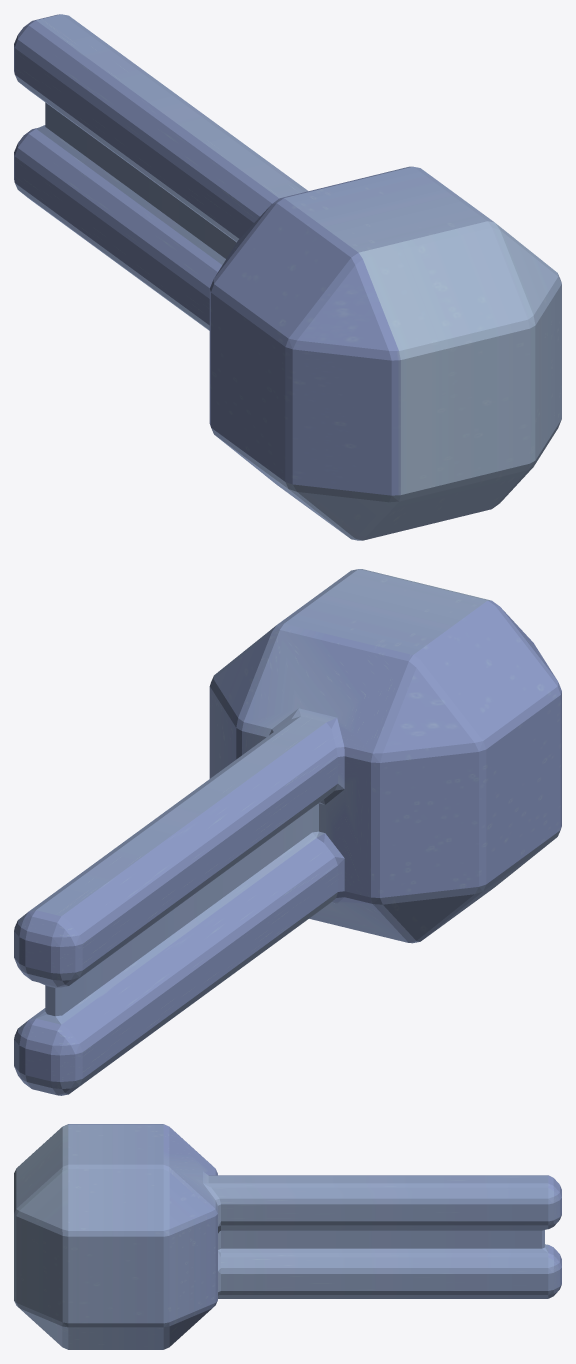
Rendered from chargeGun.obj.
The picture shows the model from 3 angles, top to bottom: view 1: azimuth 30°, elevation 25°; view 2: azimuth 150°, elevation 25°; view 3: azimuth 270°, elevation 25°; orthographic projection. The views are drawn at different scales.
Visible parts, largest first — view 1: 立方体.001; view 2: 立方体.001; view 3: 立方体.001.
Part boxes in pixels (x1,y1,x2,y2): 立方体.001: (14,14,561,540); 立方体.001: (14,569,561,1095); 立方体.001: (14,1124,561,1349).
Size of the model in its own units: 1.86 by 1.86 by 5.
